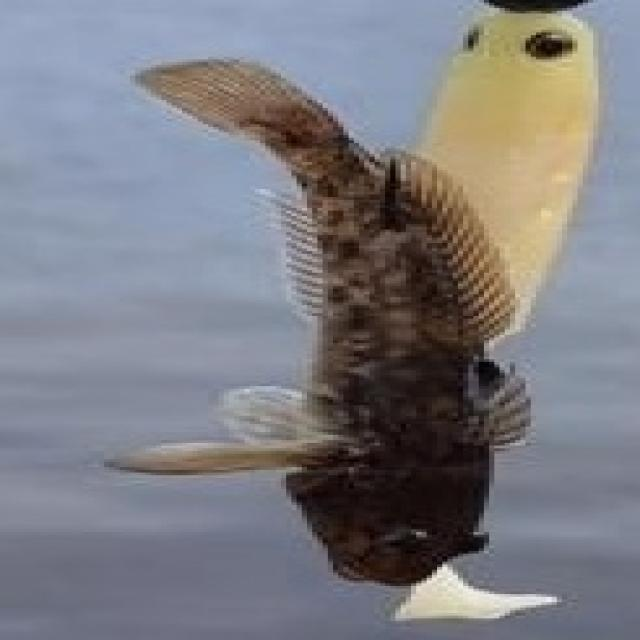Goby: (39, 0, 559, 578)
